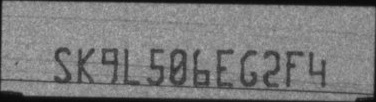0: (169, 48, 187, 86)
2: (263, 50, 281, 88)
4: (308, 50, 326, 89)
5: (145, 48, 165, 86)
6: (192, 47, 212, 87)
9: (100, 47, 119, 85)
E: (217, 48, 236, 88)
F: (285, 50, 304, 88)
G: (240, 49, 259, 88)
K: (76, 45, 95, 84)
L: (123, 48, 140, 86)
S: (53, 46, 72, 84)
